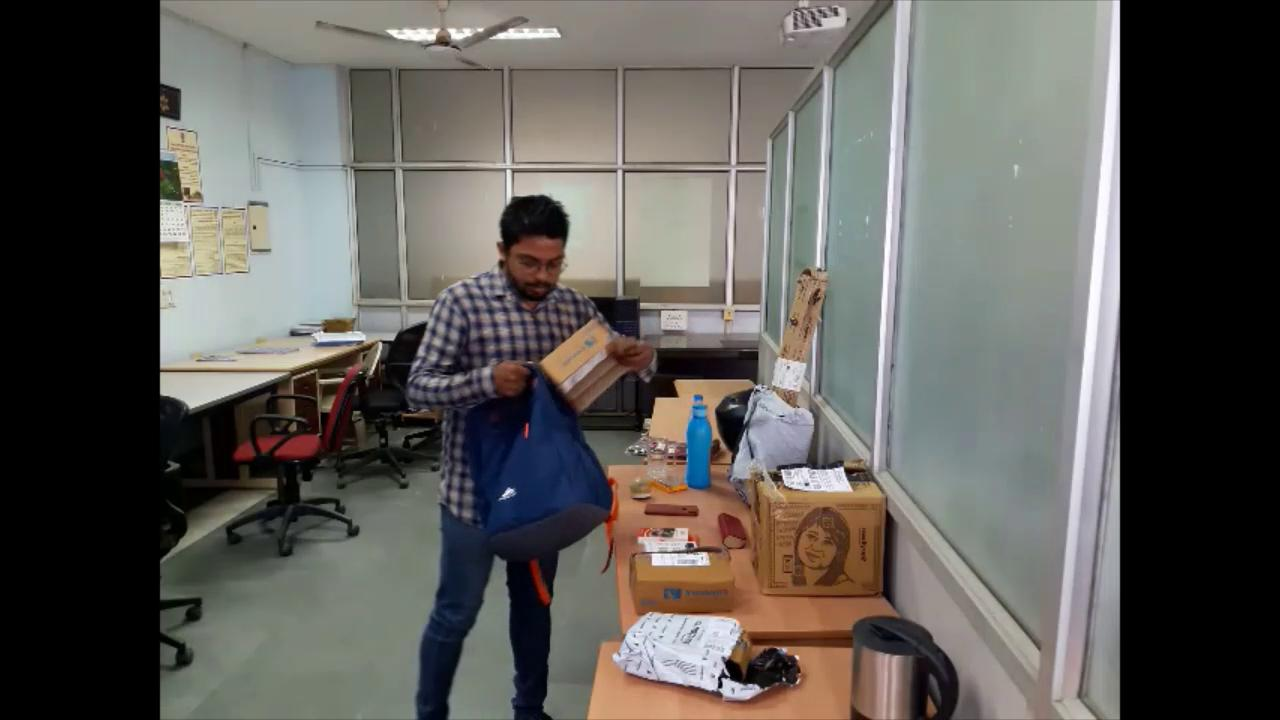shoplifting: (404, 178, 657, 720)
